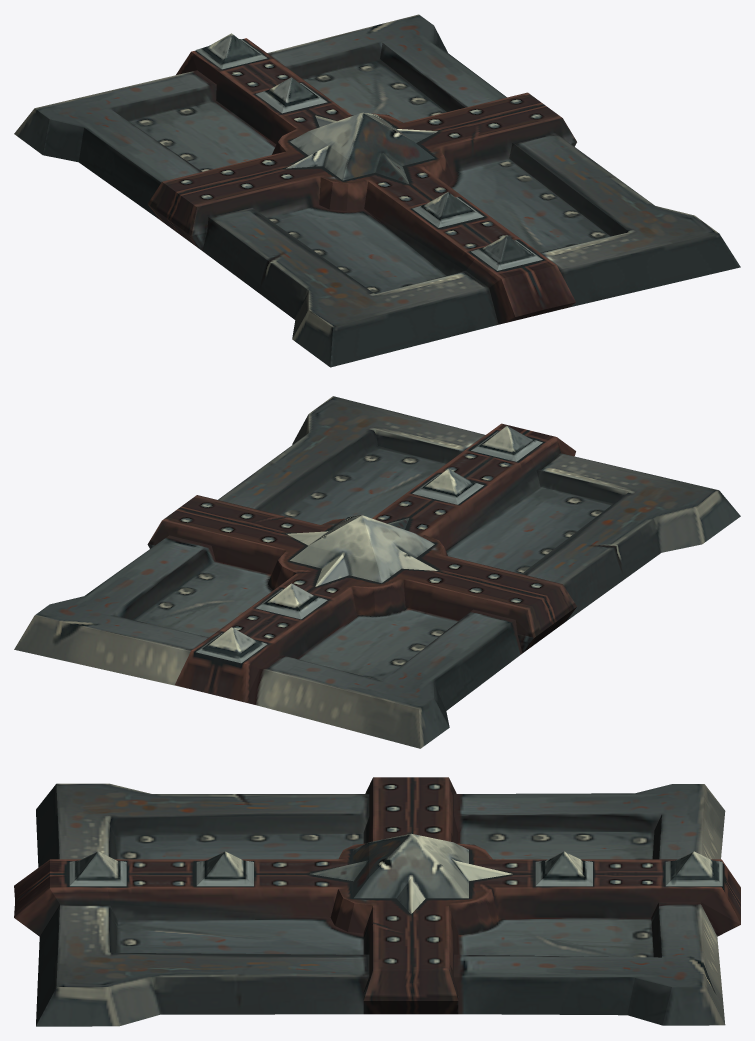
File: Set9_3.fbx
3 views of the same model, one above another, from view 1: azimuth 30°, elevation 25°; view 2: azimuth 150°, elevation 25°; view 3: azimuth 270°, elevation 25° (orthographic). The views are drawn at different scales.
Visible parts, largest first — view 1: s9_3; view 2: s9_3; view 3: s9_3.
Part boxes in pixels (x1,y1,x2,y2): s9_3: (14,14,740,367); s9_3: (14,396,740,748); s9_3: (14,777,740,1026).
Size of the model in its own units: 0.7242 by 0.2367 by 1.03.
